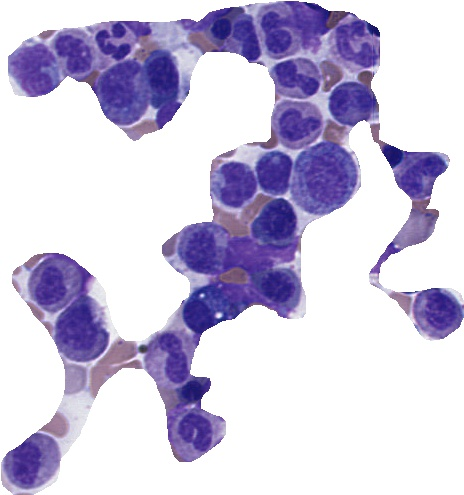objectness: (182, 281, 232, 331), (7, 44, 57, 94), (169, 405, 219, 455), (329, 20, 379, 70), (83, 16, 133, 66), (270, 53, 320, 103), (251, 2, 301, 52), (143, 330, 193, 380), (28, 258, 78, 308), (414, 290, 464, 340), (53, 302, 103, 352), (179, 220, 229, 270), (98, 64, 148, 114), (6, 437, 56, 487), (50, 29, 100, 79), (271, 99, 321, 149), (325, 79, 375, 129), (392, 148, 442, 198), (221, 14, 271, 64), (221, 229, 271, 279), (210, 159, 260, 209), (248, 148, 298, 198), (249, 196, 299, 246), (254, 259, 304, 309), (163, 368, 213, 418), (194, 4, 244, 54), (140, 52, 190, 102), (299, 154, 349, 204)
